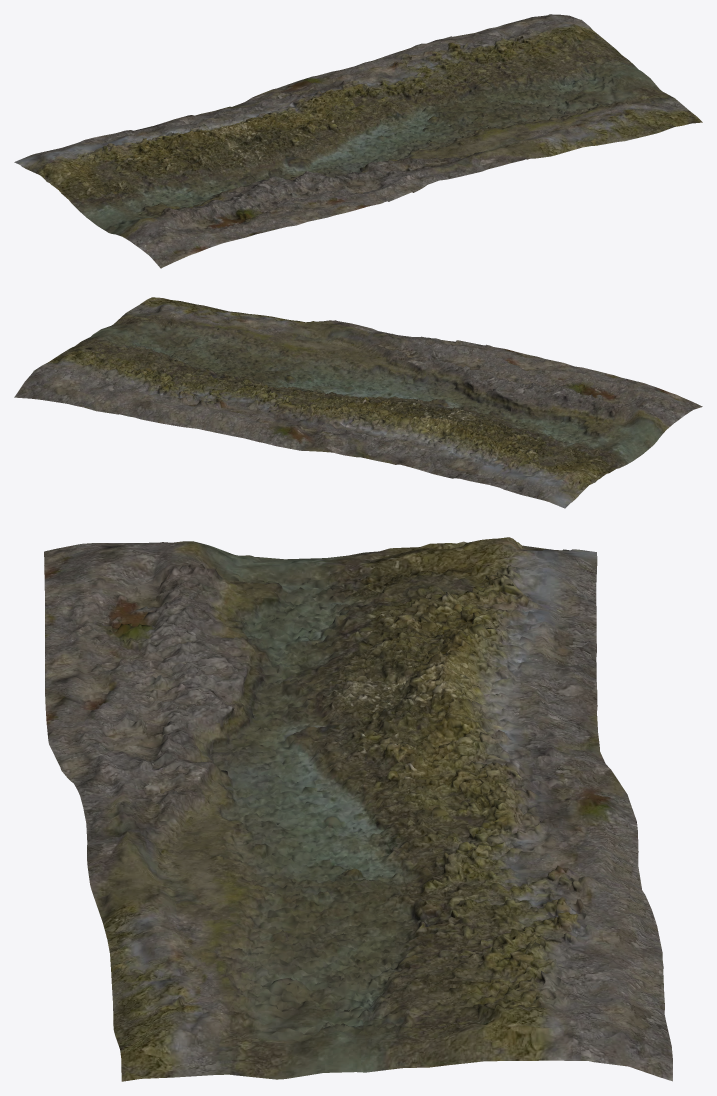
Rendered from coast_line_02.glb.
3 views of the same model, one above another, from view 1: azimuth 30°, elevation 25°; view 2: azimuth 150°, elevation 25°; view 3: azimuth 270°, elevation 25° (orthographic). The views are drawn at different scales.
Parts seen in each view (by area): view 1: coast_line_02; view 2: coast_line_02; view 3: coast_line_02.
Boxes of the visible parts, left/top/right/bottom form: coast_line_02: left=14, top=14, right=702, bottom=268; coast_line_02: left=14, top=297, right=702, bottom=508; coast_line_02: left=44, top=537, right=672, bottom=1081.
Bounding box in the file's own units: 45.63 × 2.26 × 23.28.
1 material, 1 textured.
